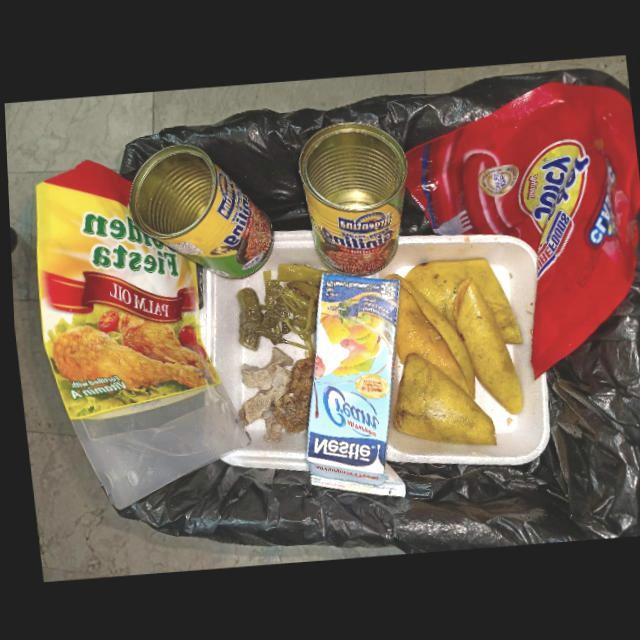aluminum: (126, 144, 271, 280), (296, 122, 406, 277)
food_wrapper: (32, 159, 246, 512), (402, 81, 640, 380)
left_over_food: (234, 347, 290, 441), (269, 357, 311, 434)
